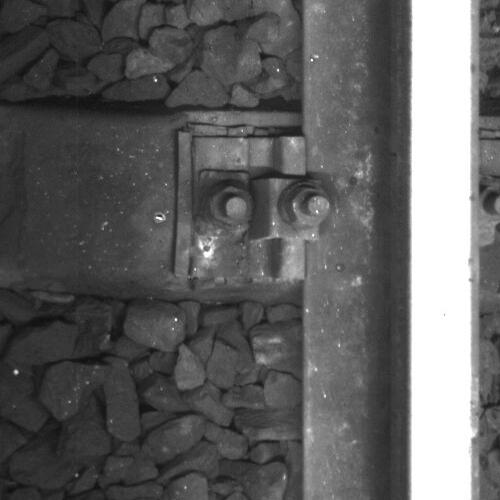kb: (189, 134, 335, 275)
nut: (207, 182, 255, 229), (286, 184, 335, 227)
rail: (408, 1, 479, 500)
tie_concr: (1, 107, 301, 281)
